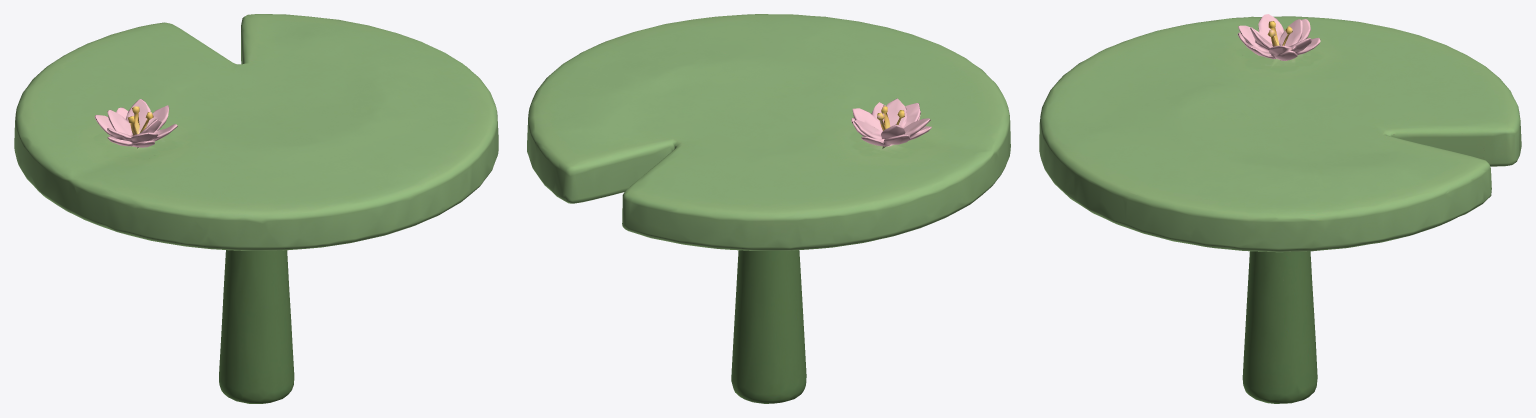
The model's file is lilypad.glb.
The picture shows the model from 3 angles, left to right: view 1: azimuth 30°, elevation 25°; view 2: azimuth 150°, elevation 25°; view 3: azimuth 270°, elevation 25°; orthographic projection.
Visible parts, largest first — view 1: tripo_node_e00ecc29-28e4-4498-b20b-134e0fb14ff1; view 2: tripo_node_e00ecc29-28e4-4498-b20b-134e0fb14ff1; view 3: tripo_node_e00ecc29-28e4-4498-b20b-134e0fb14ff1.
Boxes of the visible parts, left/top/right/bottom form: tripo_node_e00ecc29-28e4-4498-b20b-134e0fb14ff1: left=14, top=14, right=498, bottom=403; tripo_node_e00ecc29-28e4-4498-b20b-134e0fb14ff1: left=527, top=14, right=1010, bottom=403; tripo_node_e00ecc29-28e4-4498-b20b-134e0fb14ff1: left=1039, top=14, right=1521, bottom=403.
Size of the model in its own units: 0.9993 by 0.7045 by 1.
1 material, 1 textured.
